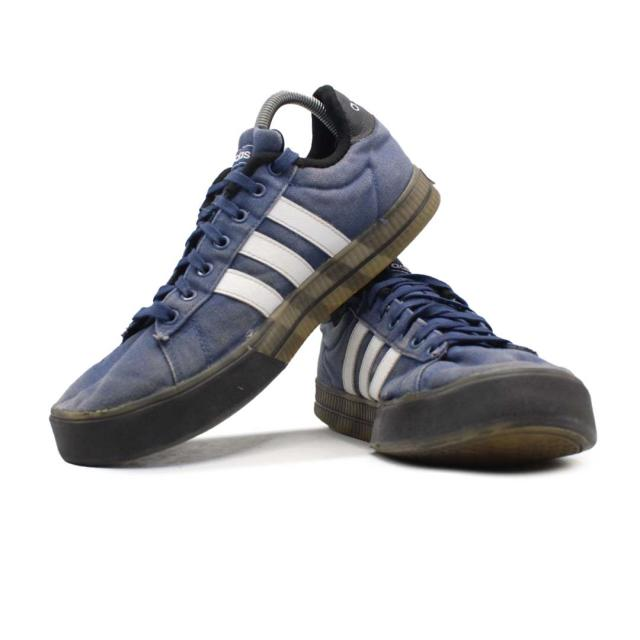heel: (324, 87, 414, 222)
midsole: (51, 171, 440, 468), (314, 374, 595, 449)
uppersole: (49, 133, 379, 415), (316, 267, 566, 398)
